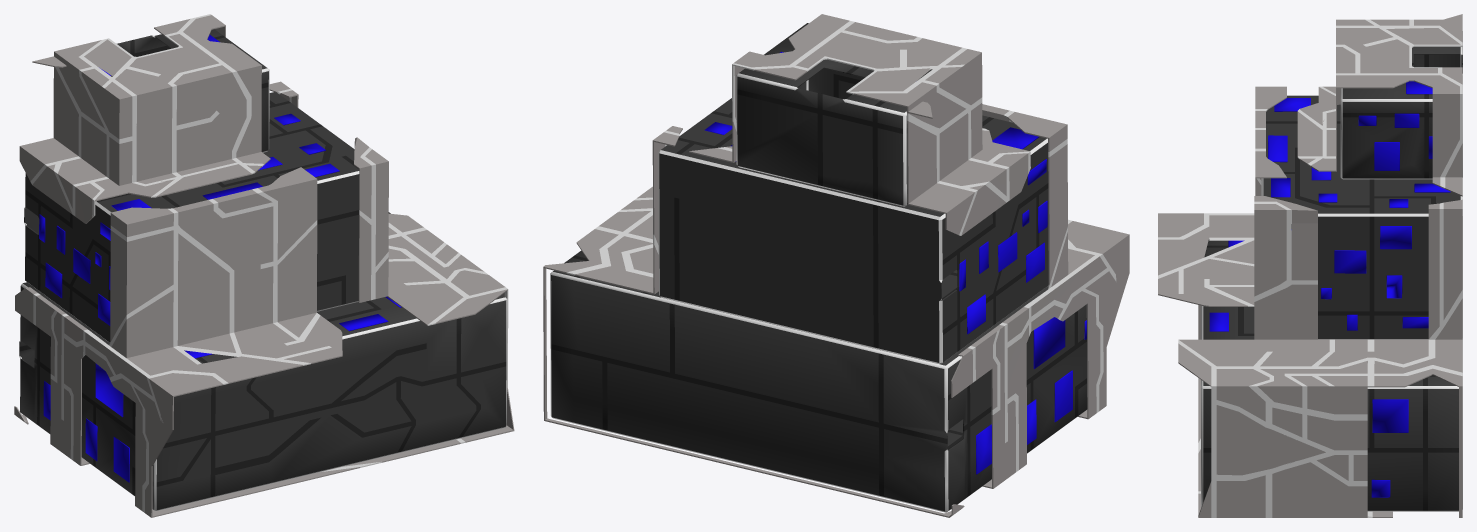
File: House2.glb
3 views of the same model, side by side, from view 1: azimuth 30°, elevation 25°; view 2: azimuth 150°, elevation 25°; view 3: azimuth 270°, elevation 25° (orthographic). The views are drawn at different scales.
Parts seen in each view (by area): view 1: Layer3.003, Layer1.003, Layer2.003; view 2: Layer1.003, Layer3.003, Layer2.003; view 3: Layer3.003, Layer1.003, Layer2.003.
Part boxes in pixels (<box>): Layer3.003: <box>14,14,514,517</box>; Layer1.003: <box>19,29,507,511</box>; Layer2.003: <box>39,34,401,482</box>; Layer1.003: <box>550,23,1087,512</box>; Layer3.003: <box>543,14,1129,517</box>; Layer2.003: <box>704,51,1086,474</box>; Layer3.003: <box>1158,14,1462,517</box>; Layer1.003: <box>1201,31,1462,511</box>; Layer2.003: <box>1209,81,1450,497</box>.
Size of the model in its own units: 36.16 by 34.04 by 27.2.
